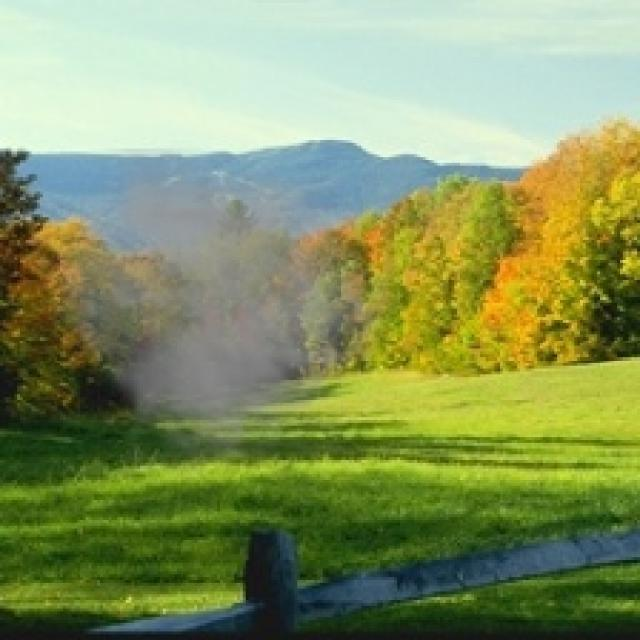Smoke: (34, 148, 397, 494)
